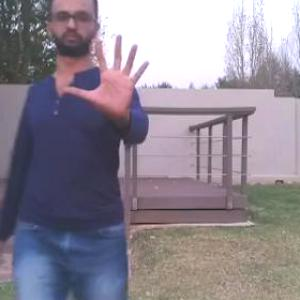follow_hand: (59, 28, 153, 123)
